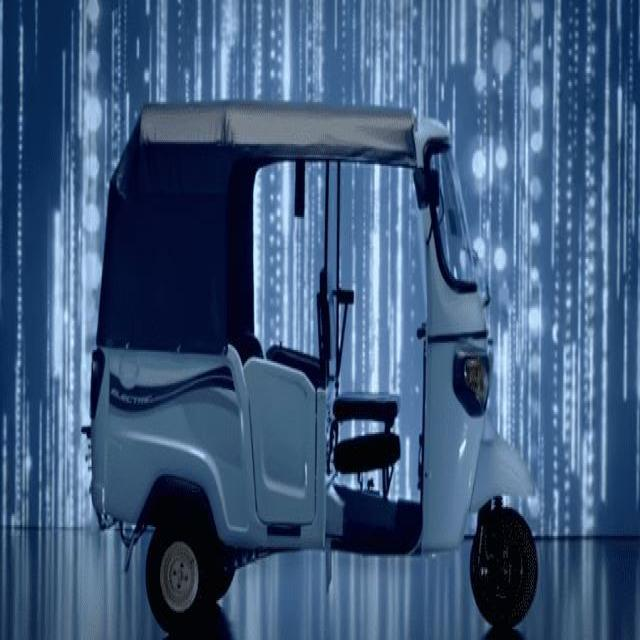autorickshaw: (86, 103, 538, 635)
